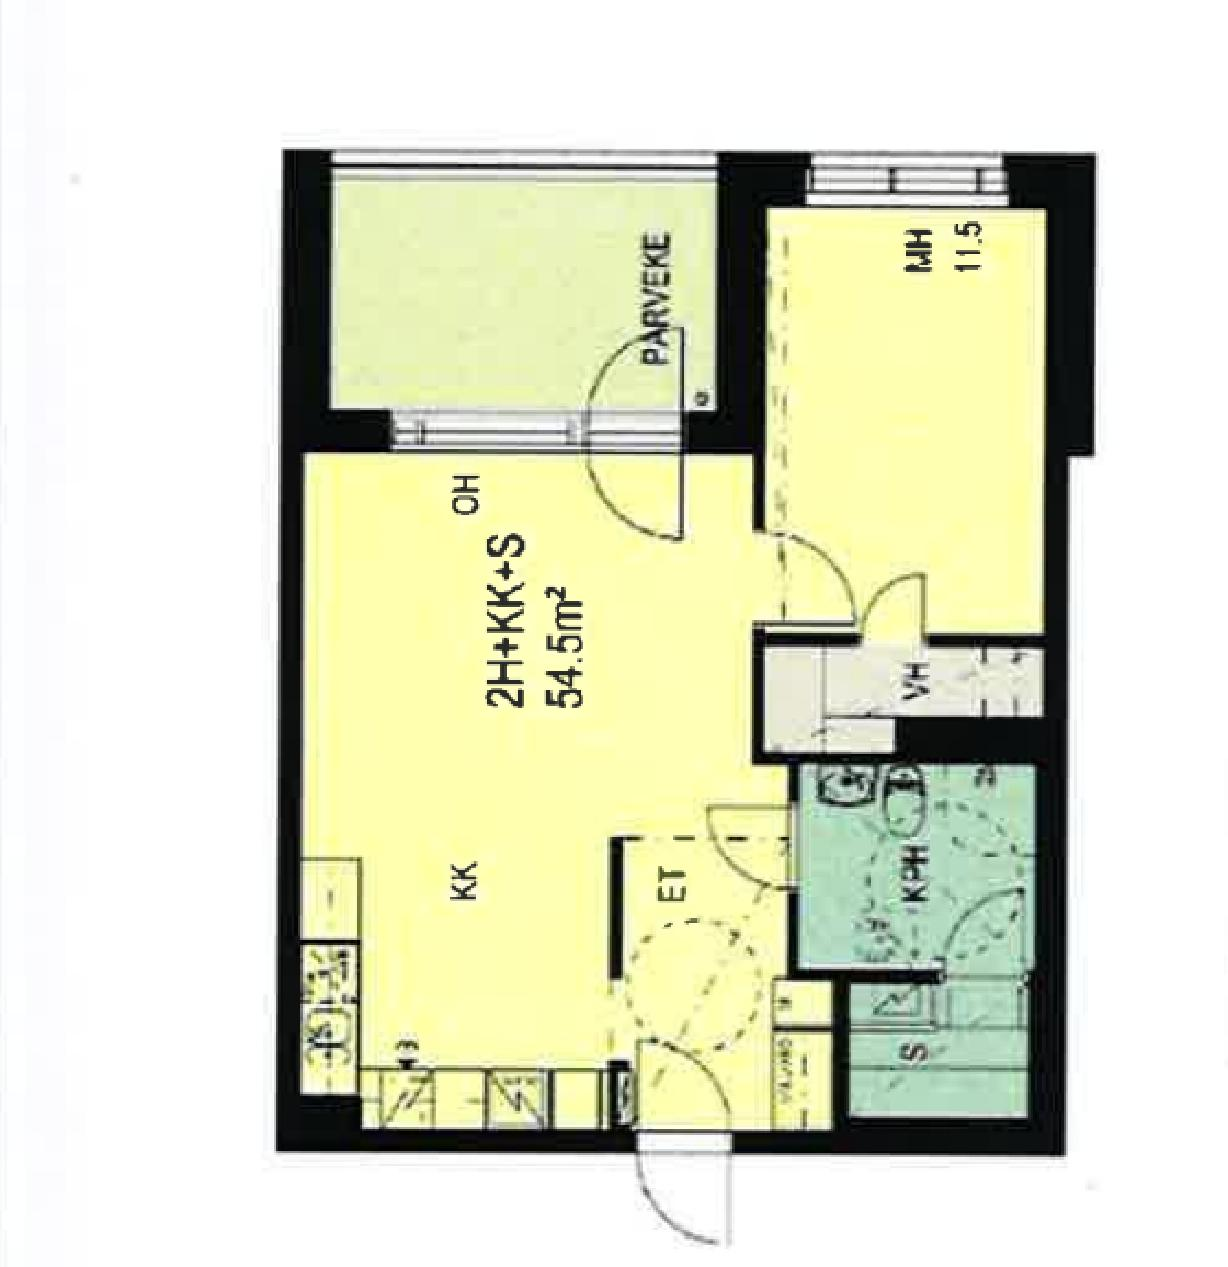door: (582, 320, 707, 553), (630, 1038, 752, 1250), (756, 531, 864, 638), (853, 555, 928, 653)
window: (332, 147, 711, 181), (814, 147, 1005, 212), (387, 406, 597, 456)
zone: (305, 449, 829, 1134), (769, 207, 1034, 633), (332, 183, 715, 415), (799, 760, 1028, 972), (756, 649, 1045, 756), (855, 977, 1024, 1123)
